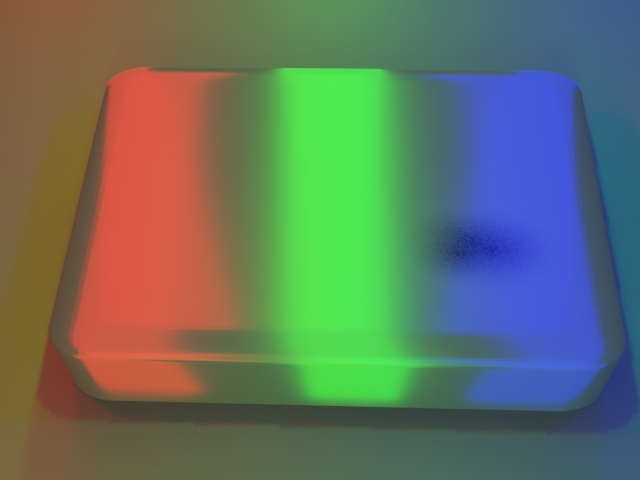stain: (384, 184, 597, 308)
